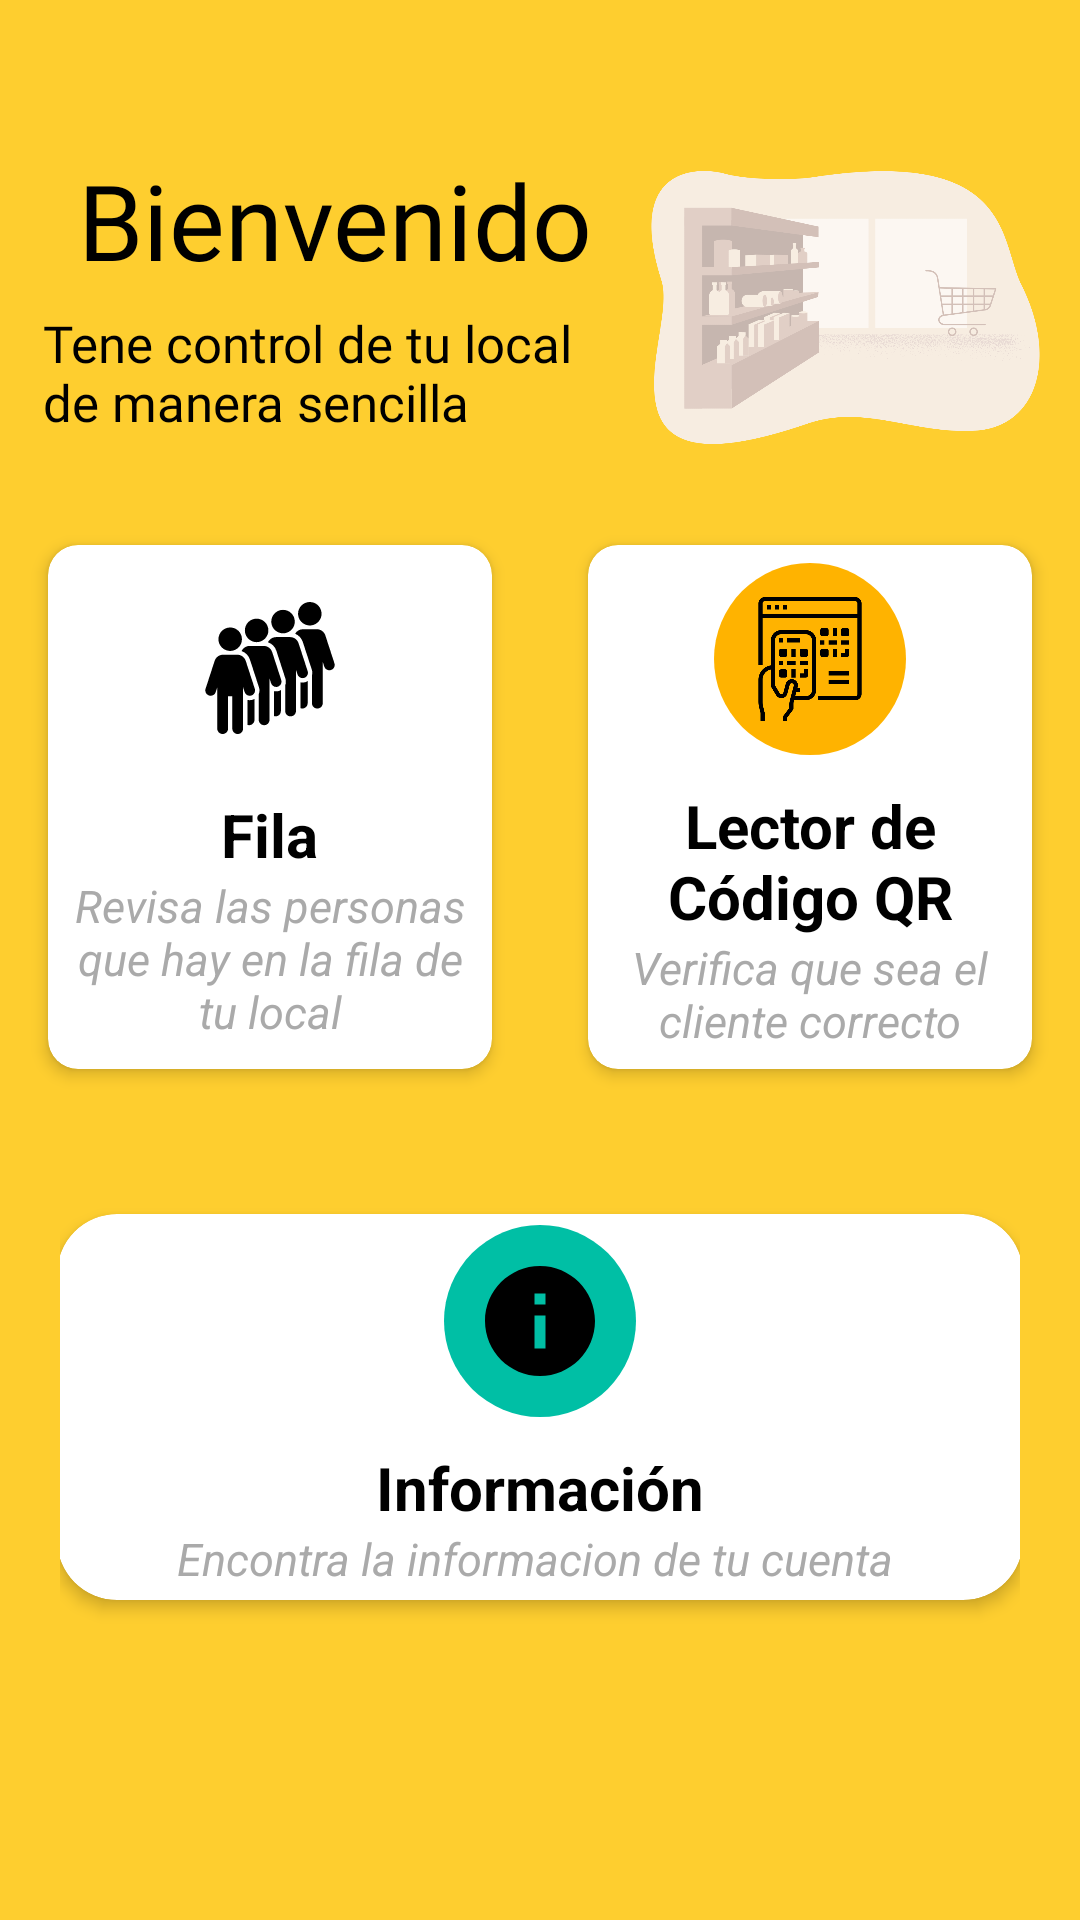

Locate icon controls on the screen. Image size 1080*1920, boxes as detection(x1, y1, x2, y2).
qr code: detection(714, 563, 906, 755)
row: detection(205, 602, 335, 734)
